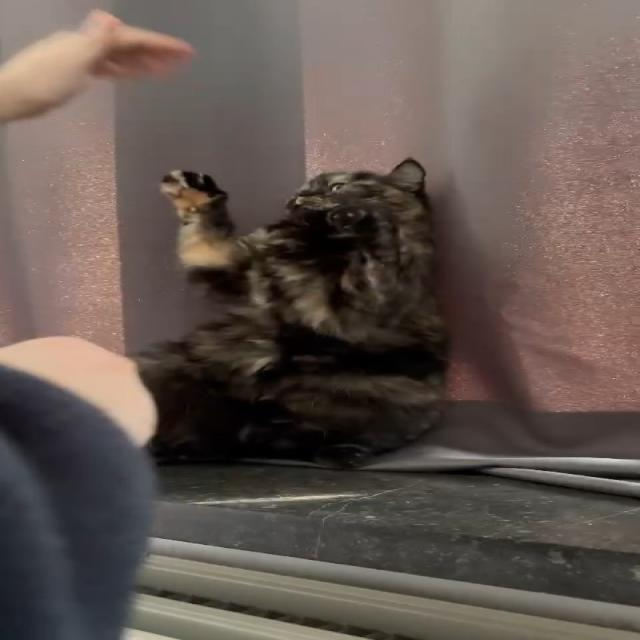authorized: (133, 156, 451, 469)
